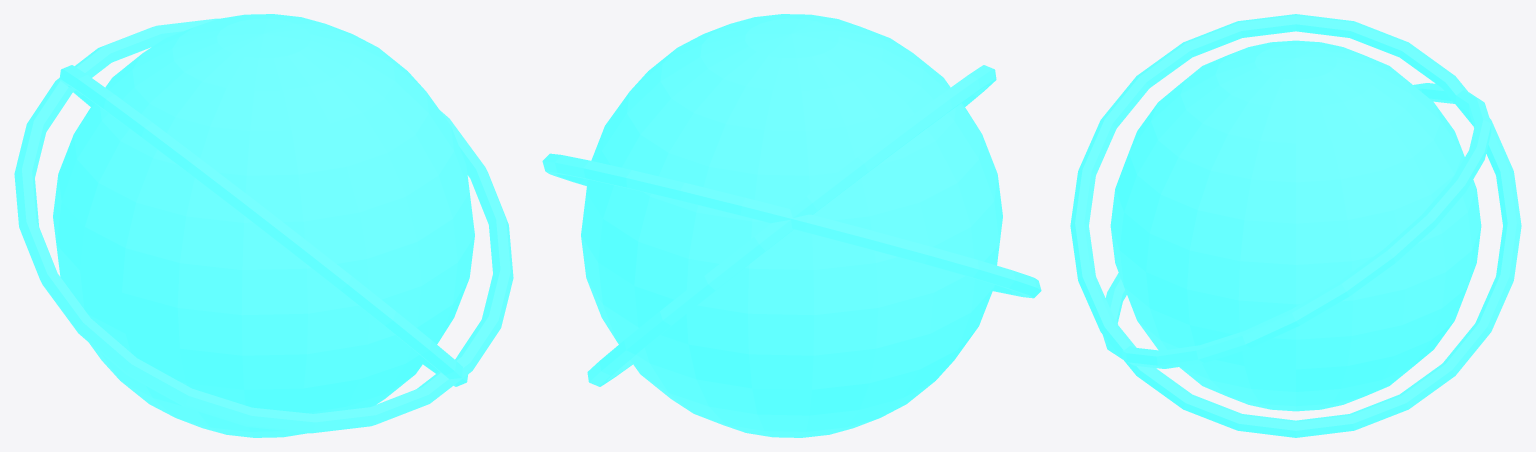
Rendered from prop_luminos_energy_orb.fbx.
3 renders of one model, left to right at view 1: azimuth 30°, elevation 25°; view 2: azimuth 150°, elevation 25°; view 3: azimuth 270°, elevation 25°, orthographic. The views are drawn at different scales.
Visible parts, largest first — view 1: L_EnergyOrb_Outer, L_EnergyOrb_Ring_0, L_EnergyOrb_Ring_1; view 2: L_EnergyOrb_Outer, L_EnergyOrb_Ring_0, L_EnergyOrb_Ring_1; view 3: L_EnergyOrb_Outer, L_EnergyOrb_Ring_1, L_EnergyOrb_Ring_0.
Part boxes in pixels (x1,y1,x2,y2): L_EnergyOrb_Outer: [53, 14, 474, 437]; L_EnergyOrb_Ring_0: [14, 18, 513, 433]; L_EnergyOrb_Ring_1: [59, 65, 468, 386]; L_EnergyOrb_Outer: [581, 14, 1002, 437]; L_EnergyOrb_Ring_0: [542, 153, 1041, 298]; L_EnergyOrb_Ring_1: [587, 65, 996, 386]; L_EnergyOrb_Outer: [1110, 40, 1481, 411]; L_EnergyOrb_Ring_1: [1070, 14, 1521, 437]; L_EnergyOrb_Ring_0: [1103, 83, 1491, 368].
Size of the model in its own units: 0.73 by 0.6 by 0.73.
